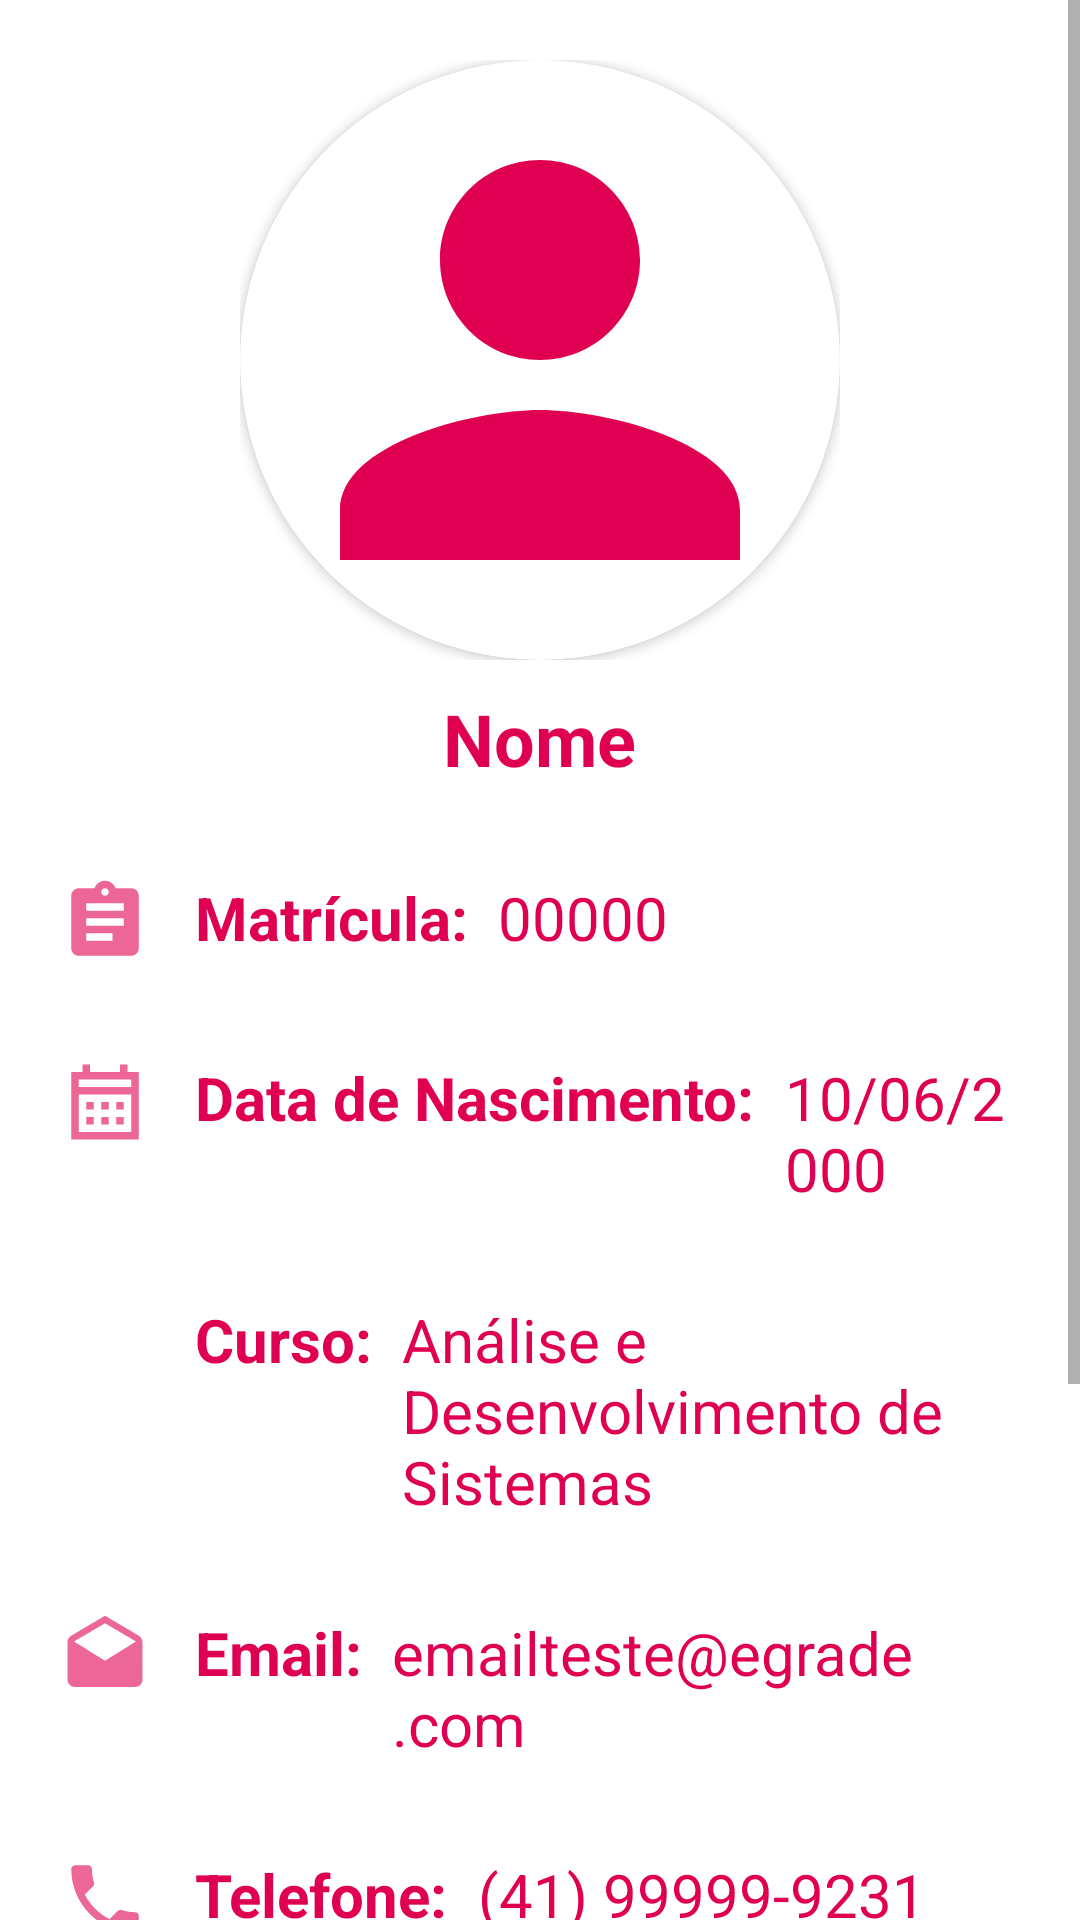

Point at icon controls on the screen. Image size 1080 × 1920, points as point (x, y).
calendar: point (105, 1102)
